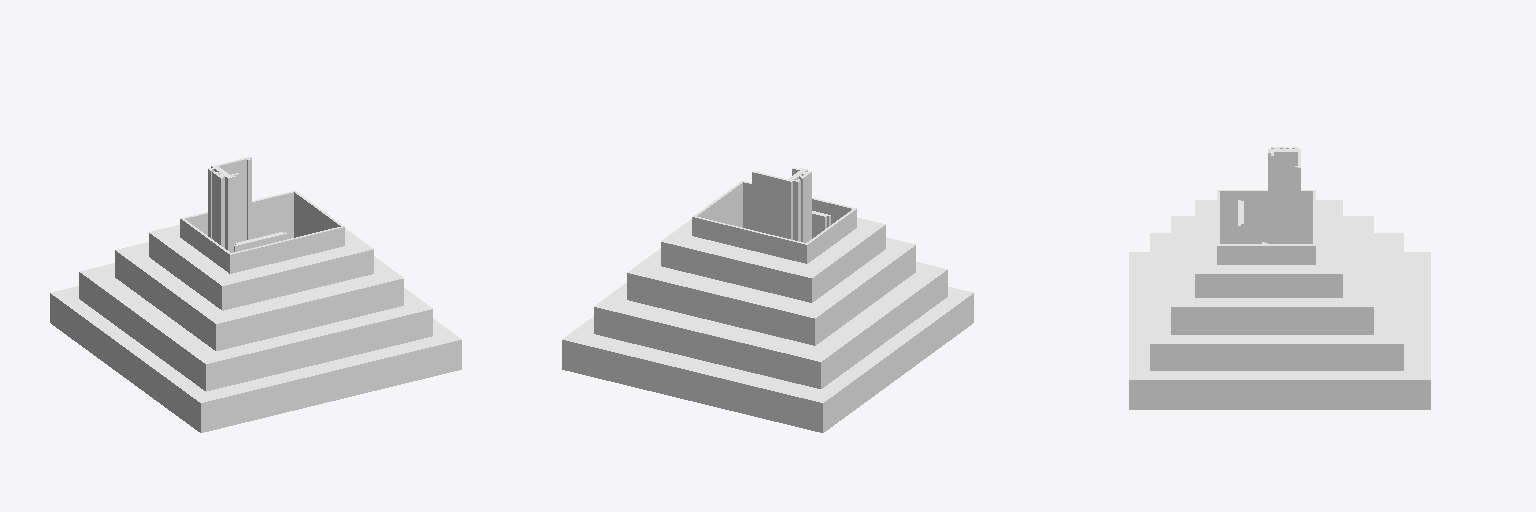
File: ziggura.obj
The picture shows the model from 3 angles: view 1: azimuth 30°, elevation 25°; view 2: azimuth 150°, elevation 25°; view 3: azimuth 270°, elevation 25°; orthographic projection.
Visible parts, largest first — view 1: ziggura; view 2: ziggura; view 3: ziggura.
Part boxes in pixels (x1,y1,x2,y2): ziggura: (50,157,461,432); ziggura: (562,168,973,432); ziggura: (1129,147,1430,409).
Bounding box in the file's own units: 100 × 66 × 100.